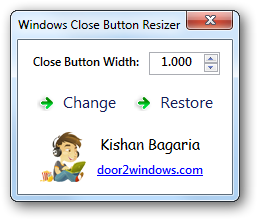close: (185, 9, 231, 30)
